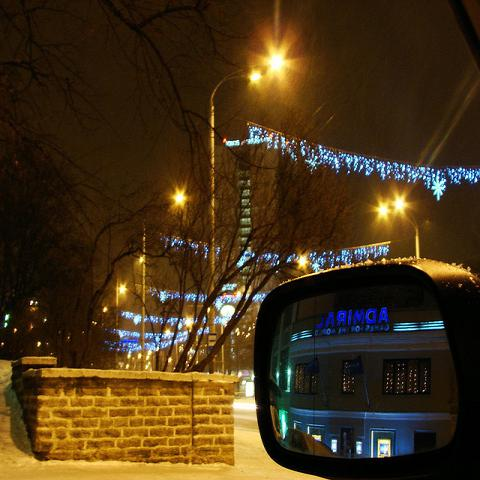car: (249, 255, 479, 472)
